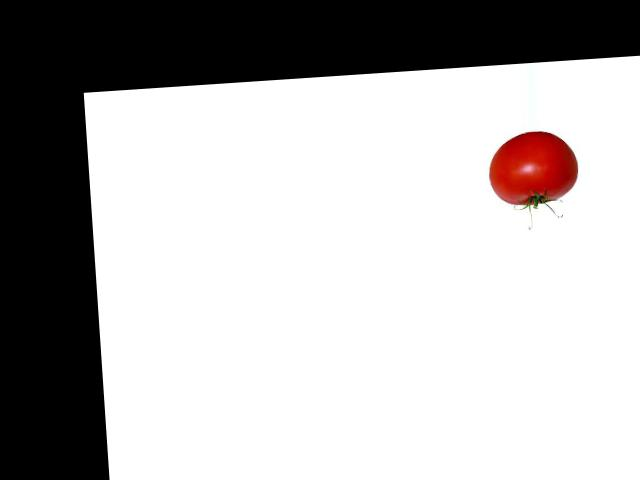tomato: (485, 128, 579, 207)
